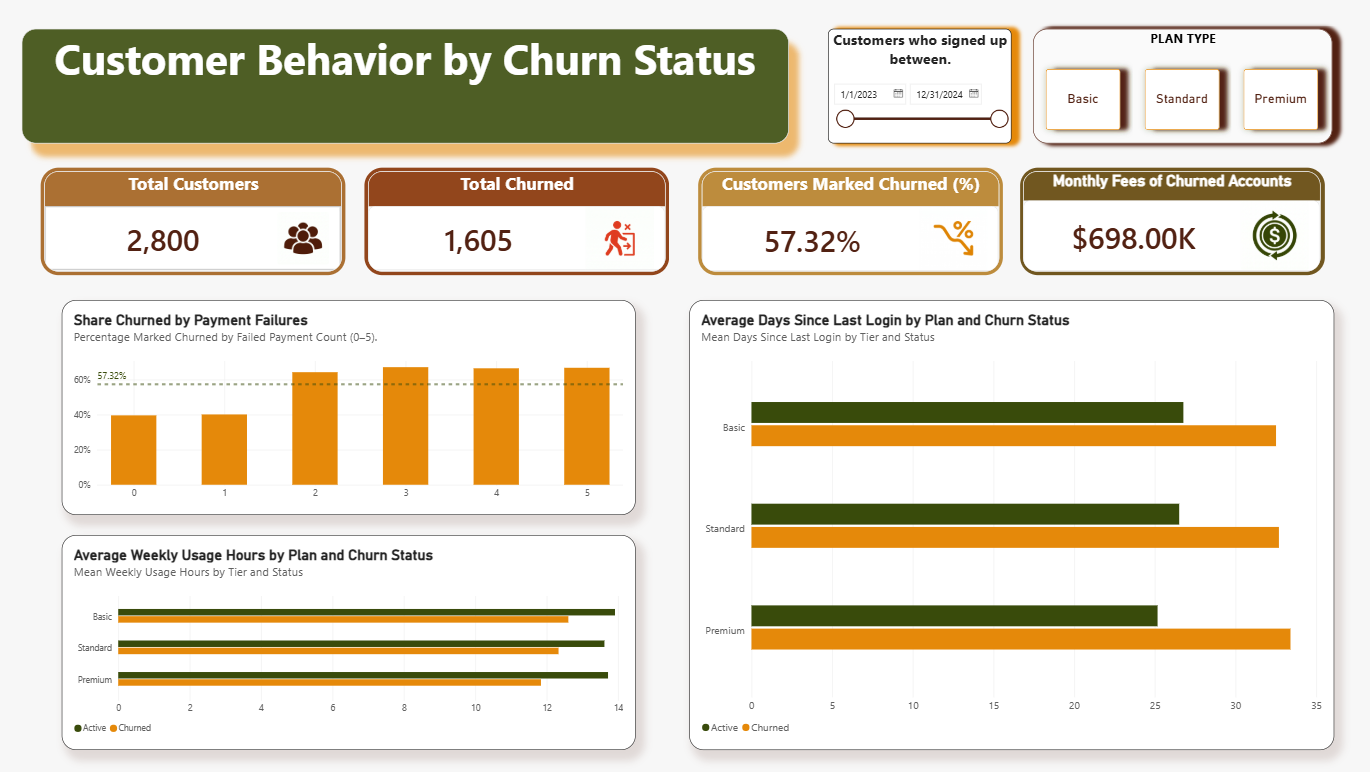

The page's visual inventory and layout, read from the dashboard file:
{"tool":"powerbi","page":{"name":"Customer Behavior by Churn Status","canvas":[1920,1080],"ordinal":1},"visuals":[{"type":"textbox","box":[32.5,40,1070,160],"z":0},{"type":"advancedSlicerVisual","title":"PLAN TYPE","fields":{"Values":["clean_saas_data.plan_type"]},"box":[1445,40,417.5,160],"z":1000},{"type":"cardVisual","title":"Total Customers","fields":{"Data":["clean_saas_data.Total Customers"]},"box":[64,238.4,415,140],"z":3000},{"type":"cardVisual","title":"Total Churned","fields":{"Data":["clean_saas_data.Total Churned"]},"box":[516,238.4,415,140],"z":4000},{"type":"cardVisual","title":"\tMonthly Fees of Churned Accounts","fields":{"Data":["clean_saas_data.Churned MRR"]},"box":[1430,238.4,415,140],"z":5000},{"type":"cardVisual","title":"Customers Marked Churned (%)","fields":{"Data":["clean_saas_data.Churn Rate %"]},"box":[982,238.4,415,140],"z":6000},{"type":"clusteredColumnChart","title":"Share Churned by Payment Failures","fields":{"Category":["clean_saas_data.payment_failures"],"Y":["clean_saas_data.Churn Rate %"]},"box":[89.2,418.9,800.5,300],"z":7000},{"type":"clusteredBarChart","title":"Average Days Since Last Login by Plan and Churn Status","fields":{"Category":["clean_saas_data.plan_type"],"Series":["clean_saas_data.Account Status"],"Y":["Avg(clean_saas_data.last_login_days_ago)"]},"box":[964,418,900,628],"z":8000},{"type":"clusteredBarChart","title":"Average Weekly Usage Hours by Plan and Churn Status","fields":{"Category":["clean_saas_data.plan_type"],"Series":["clean_saas_data.Account Status"],"Y":["Avg(clean_saas_data.avg_weekly_usage_hours)"]},"box":[89.2,746.6,800.5,300],"z":9000},{"type":"slicer","title":"Customers who signed up between.","fields":{"Values":["clean_saas_data.signup_date"]},"box":[1158,40,256,160],"z":9001}]}

Visuals, with their boxes in screenshot pixels (x1, y1, x2, y2), scaled from the page's 1920x1080 canvas onto the 1370x772 screenshot:
textbox: <region>23, 29, 787, 143</region>
"PLAN TYPE" advancedSlicerVisual: <region>1031, 29, 1329, 143</region>
"Total Customers" cardVisual: <region>46, 170, 342, 270</region>
"Total Churned" cardVisual: <region>368, 170, 664, 270</region>
"	Monthly Fees of Churned Accounts" cardVisual: <region>1020, 170, 1316, 270</region>
"Customers Marked Churned (%)" cardVisual: <region>701, 170, 997, 270</region>
"Share Churned by Payment Failures" clusteredColumnChart: <region>64, 299, 635, 514</region>
"Average Days Since Last Login by Plan and Churn Status" clusteredBarChart: <region>688, 299, 1330, 748</region>
"Average Weekly Usage Hours by Plan and Churn Status" clusteredBarChart: <region>64, 534, 635, 748</region>
"Customers who signed up between." slicer: <region>826, 29, 1009, 143</region>
